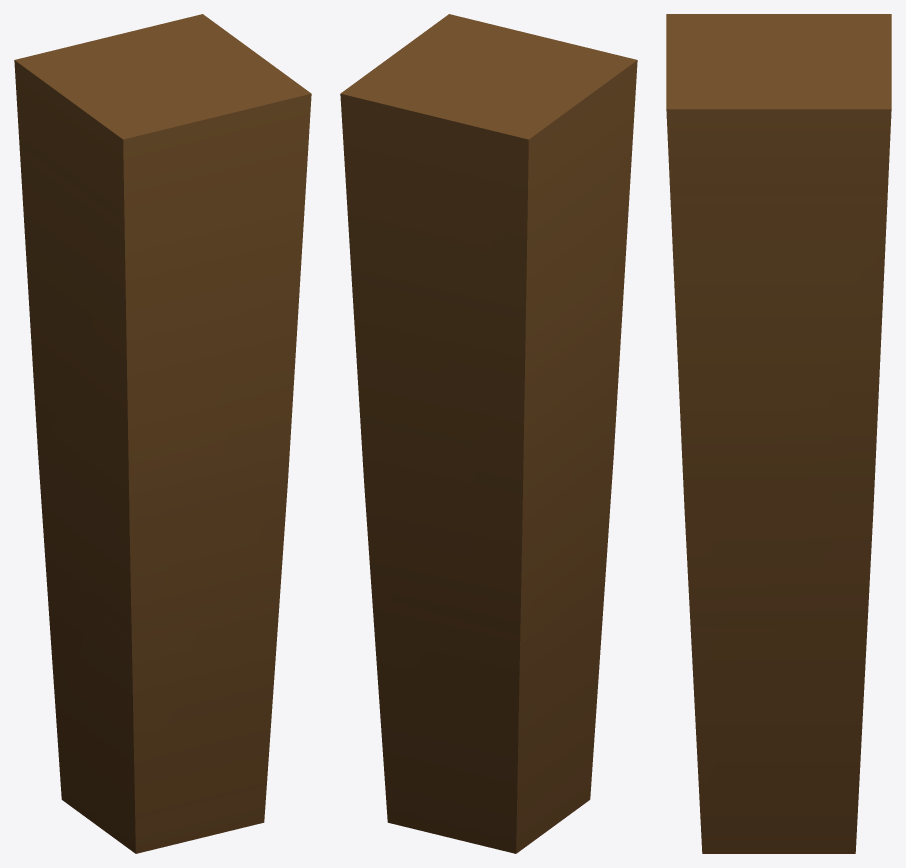
Rendered from Fence_03.fbx.
The picture shows the model from 3 angles, left to right: view 1: azimuth 30°, elevation 25°; view 2: azimuth 150°, elevation 25°; view 3: azimuth 270°, elevation 25°; orthographic projection. The views are drawn at different scales.
Parts seen in each view (by area): view 1: Fence_03; view 2: Fence_03; view 3: Fence_03.
Part boxes in pixels (left/top/right/bottom): Fence_03: left=14, top=14, right=311, bottom=853; Fence_03: left=340, top=14, right=637, bottom=853; Fence_03: left=666, top=14, right=891, bottom=853.
Bounding box in the file's own units: 27.39 × 102 × 27.39.
